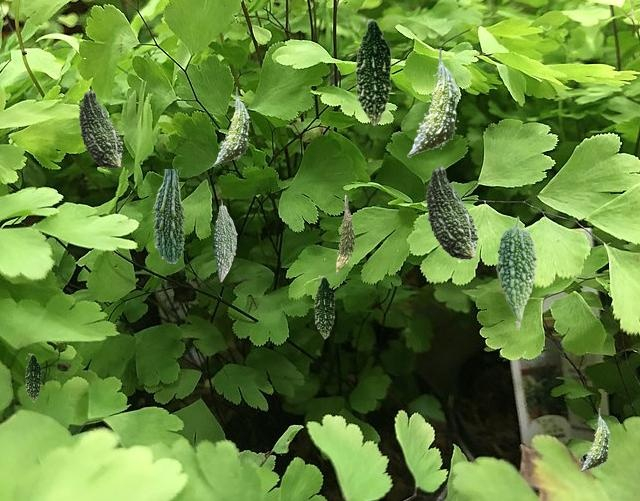ampalaya: (407, 48, 458, 156), (426, 165, 477, 258), (496, 216, 536, 329), (355, 17, 393, 125), (79, 89, 122, 167), (152, 169, 184, 262), (213, 87, 249, 165), (213, 198, 236, 281), (580, 408, 609, 471), (336, 195, 354, 273), (314, 275, 335, 338), (25, 353, 41, 401)
